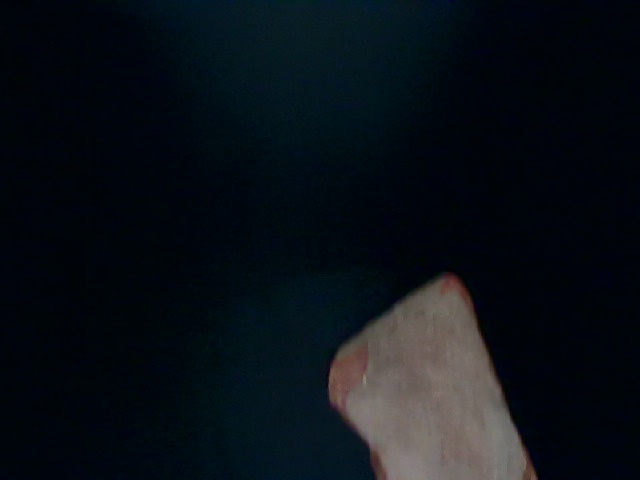KHSLJ: (1, 1, 248, 147)
